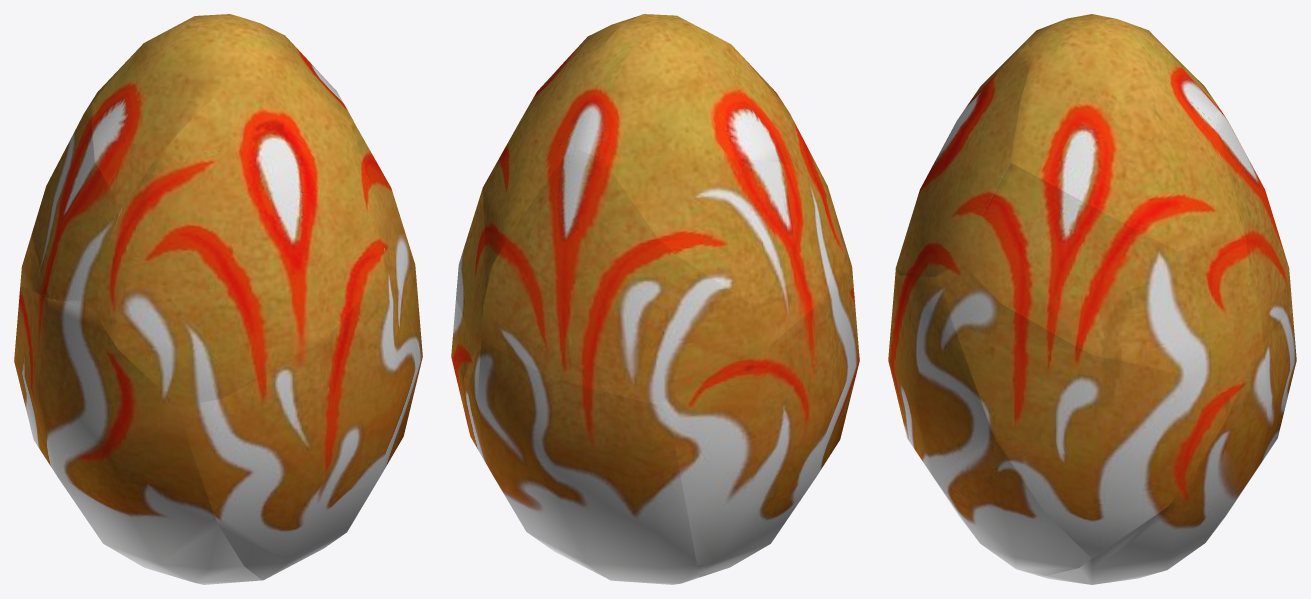
The model's file is 221-phoenixegg.glb.
3 renders of one model, left to right at view 1: azimuth 30°, elevation 25°; view 2: azimuth 150°, elevation 25°; view 3: azimuth 270°, elevation 25°, orthographic.
Bounding box in the file's own units: 1.12 × 1.65 × 1.12.
Materials: 1 (1 with a texture image).
